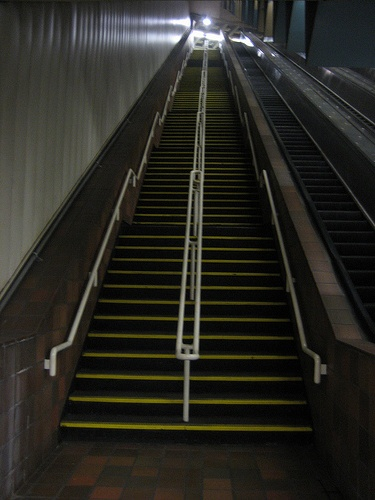stairs_up: (80, 43, 277, 437)
